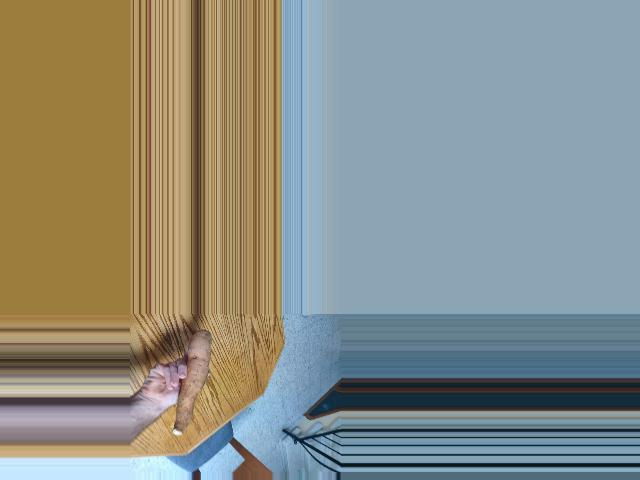sweet_potato: (166, 332, 217, 434)
